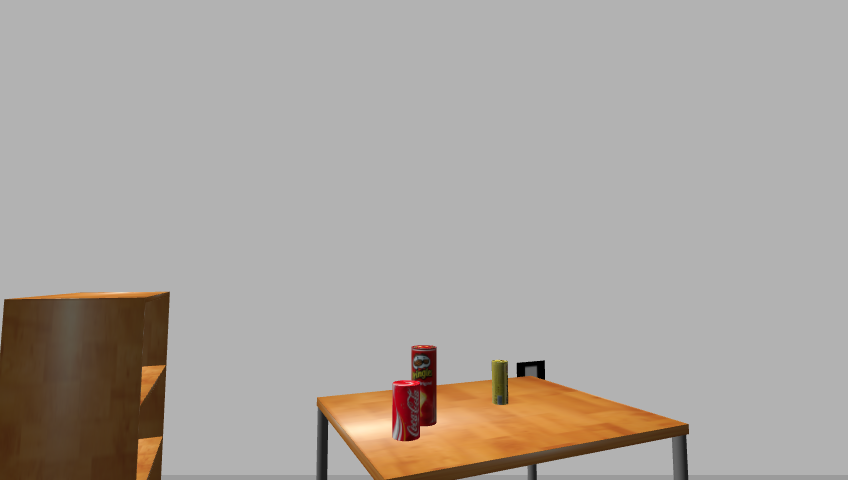aruco marker: (511, 360, 548, 384)
biscuits pack: (491, 360, 509, 407)
bookshelf: (0, 291, 177, 480)
coke can: (389, 381, 424, 442)
dinner table: (307, 376, 697, 479)
pringles can: (409, 345, 440, 428)
